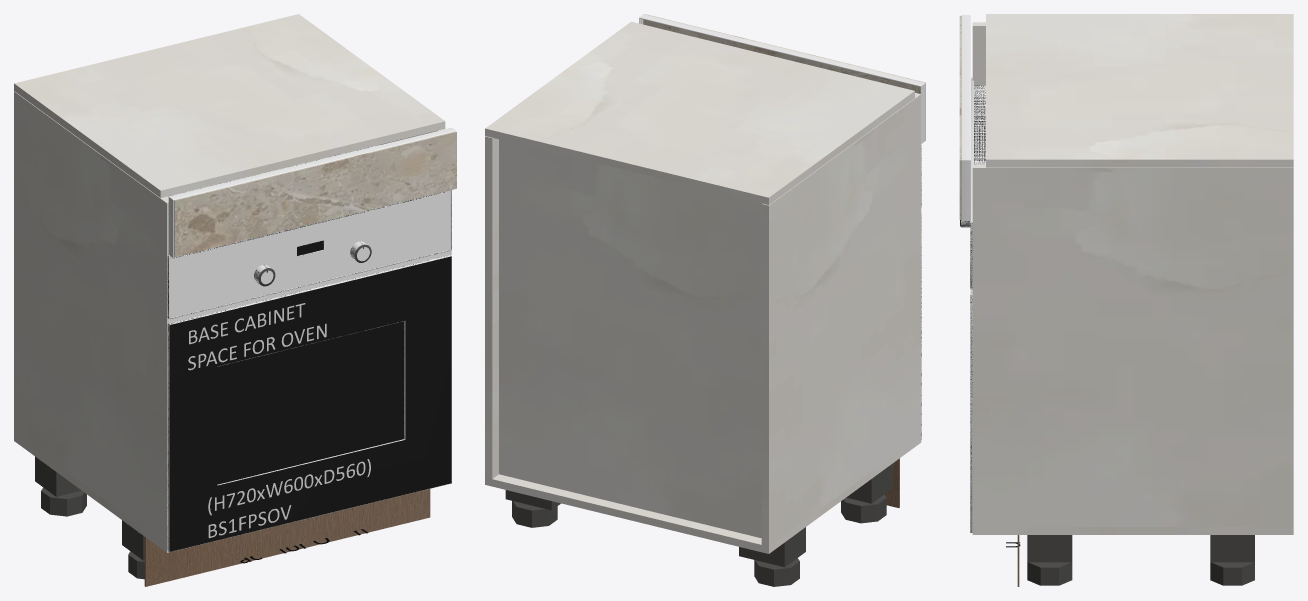
File: BS1FPSOV_EH (H720xW600xD560).glb
3 renders of one model, left to right at view 1: azimuth 30°, elevation 25°; view 2: azimuth 150°, elevation 25°; view 3: azimuth 270°, elevation 25°, orthographic. The views are drawn at different scales.
Size of what is drawn, in the model's own units: 0.6 by 0.82 by 0.5899.
Materials: 9 (3 with a texture image).
